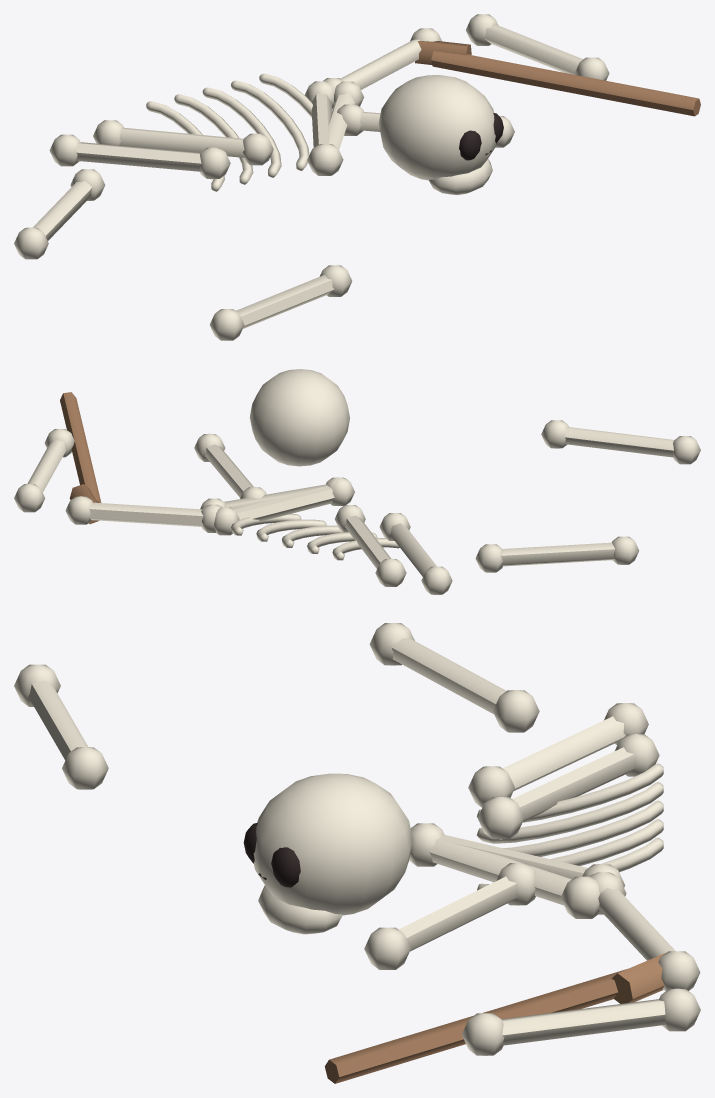
Rendered from bones_decor.glb.
The picture shows the model from 3 angles, top to bottom: view 1: azimuth 30°, elevation 25°; view 2: azimuth 150°, elevation 25°; view 3: azimuth 270°, elevation 25°; orthographic projection. The views are drawn at different scales.
Visible parts, largest first — view 1: bones_decor; view 2: bones_decor; view 3: bones_decor.
Part boxes in pixels (x1=…): bones_decor: x1=14, y1=14, x2=700, y2=340; bones_decor: x1=14, y1=369, x2=700, y2=594; bones_decor: x1=14, y1=623, x2=700, y2=1083.
Bounding box in the file's own units: 0.8193 × 0.1323 × 0.5472.
